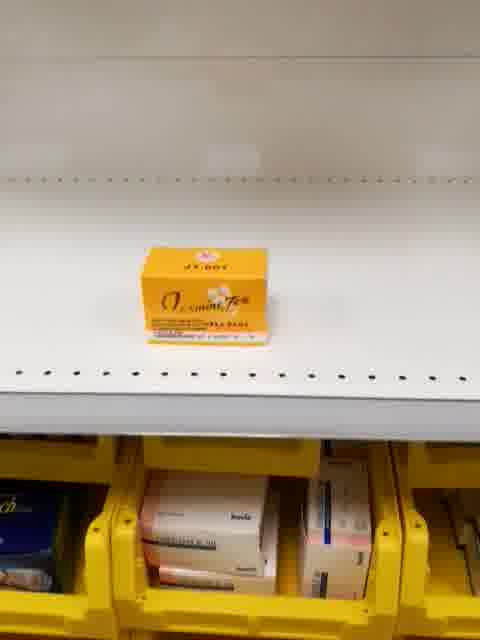jasminetea: (137, 243, 272, 348)
